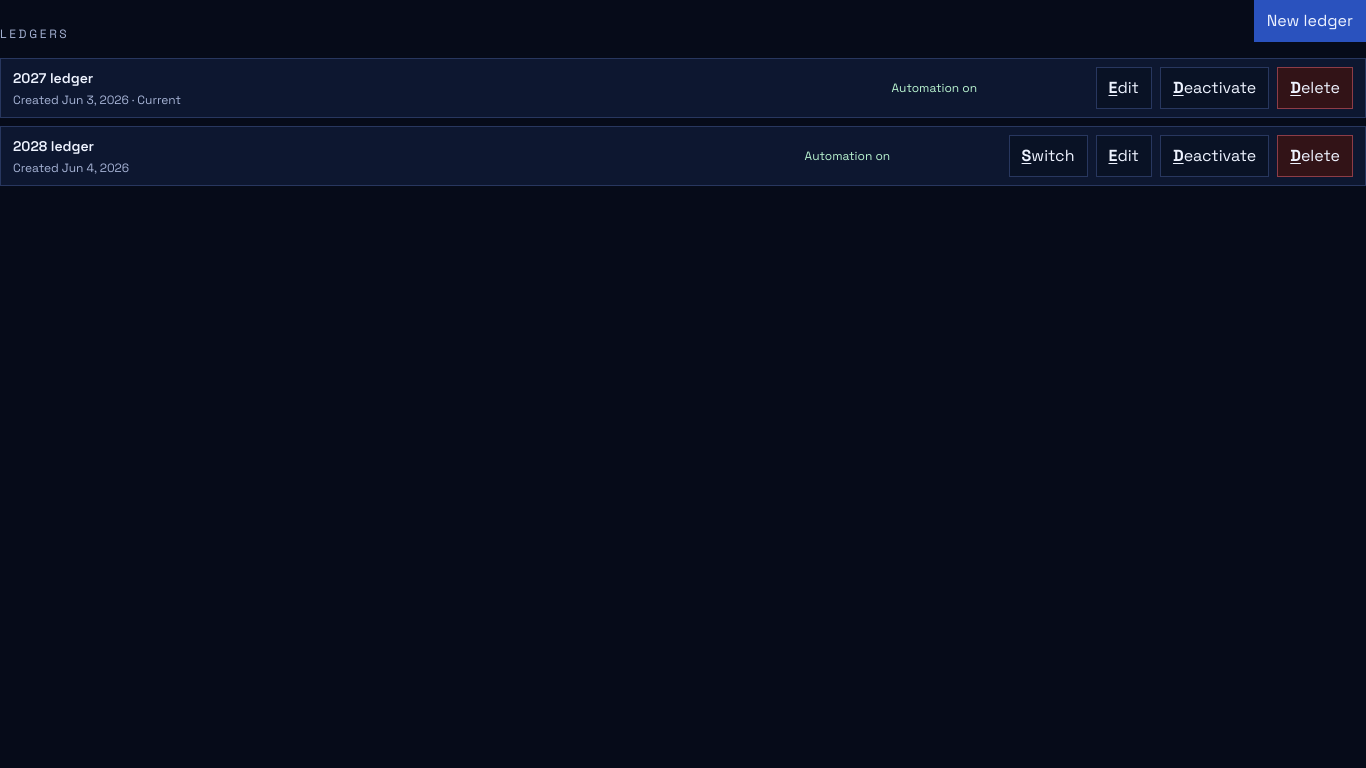
Test: ledger manager › renames a ledger in a modal dialog
The image size is (1366, 768).
Press ArrowDown
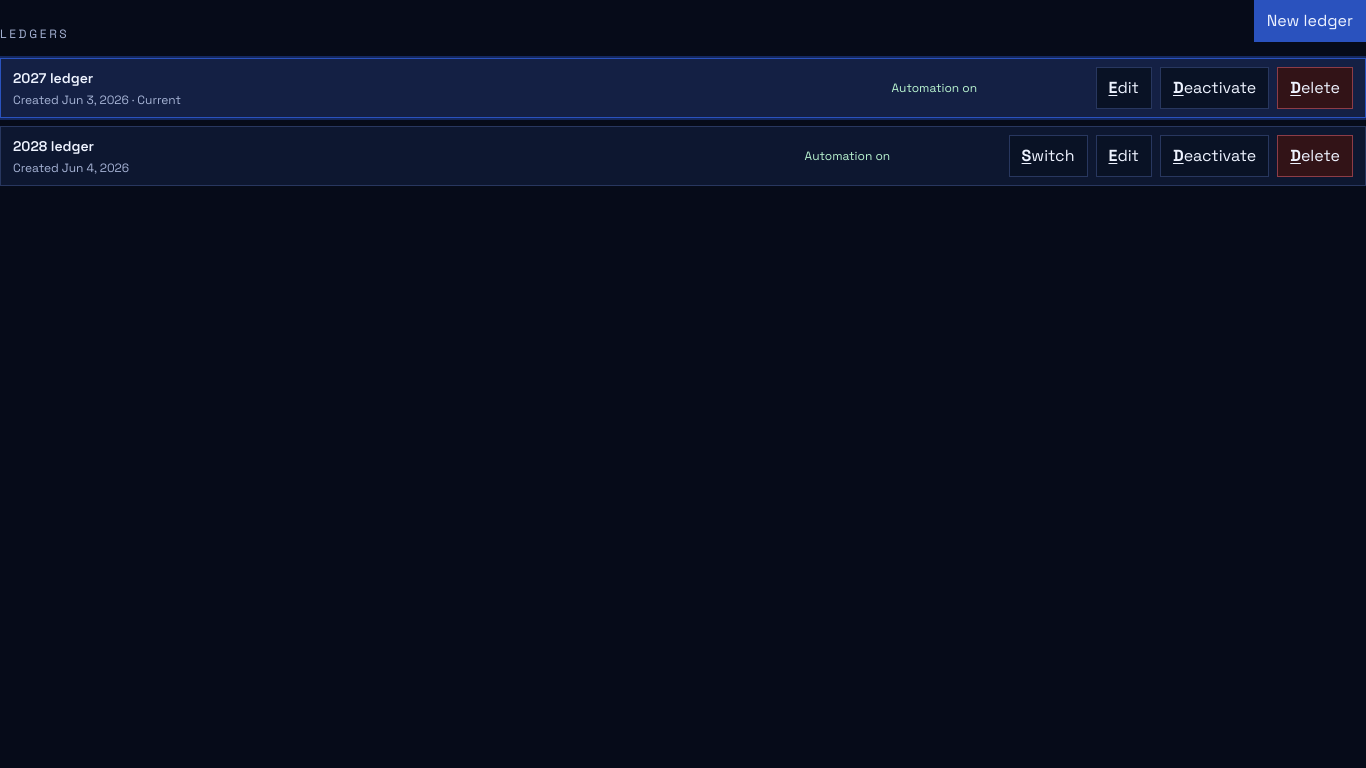
Press e
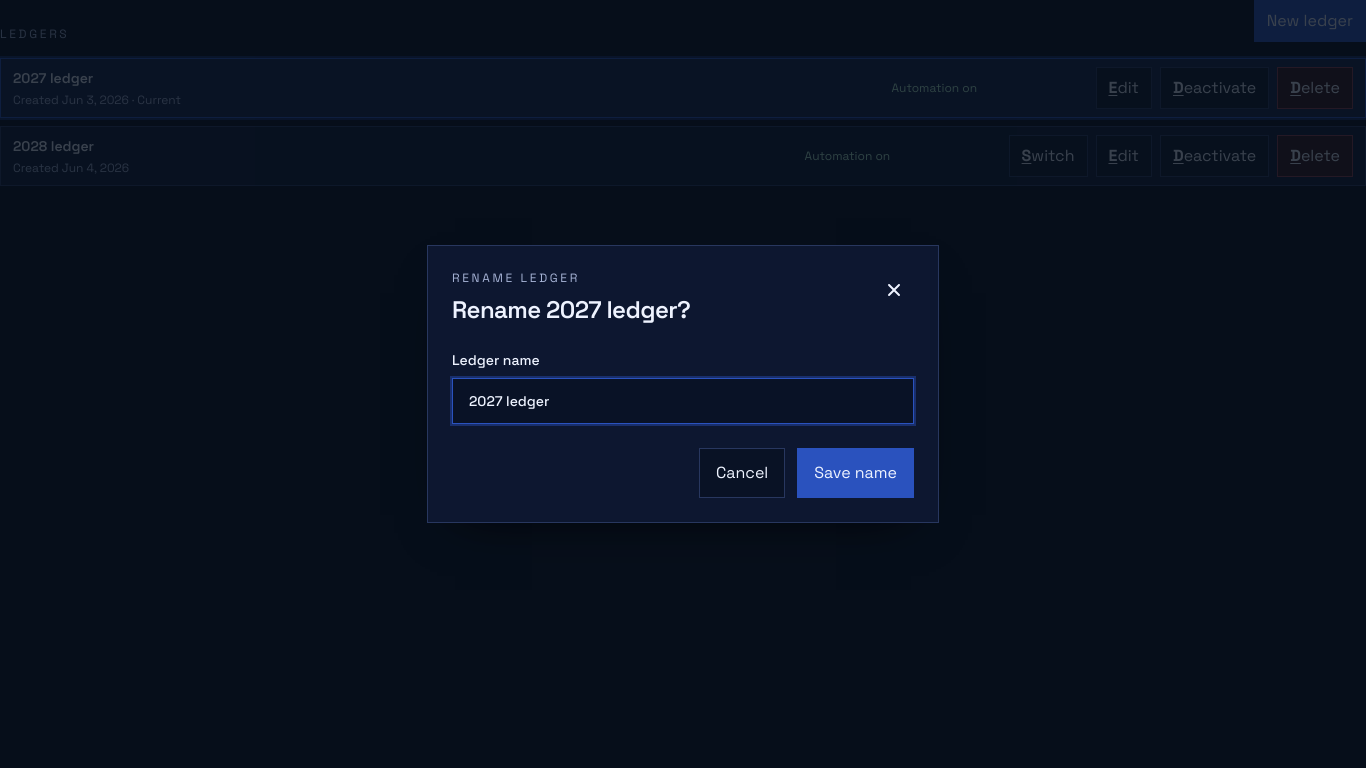
Now the dialog "Rename 2027 ledger?" is shown, box top-left (427, 245), bottom-right (939, 523)
Replace the text in the field labelled "Ledger name" with "Renamed ledger" at (683, 401), box top-left (452, 378), bottom-right (914, 424)
Then press Enter
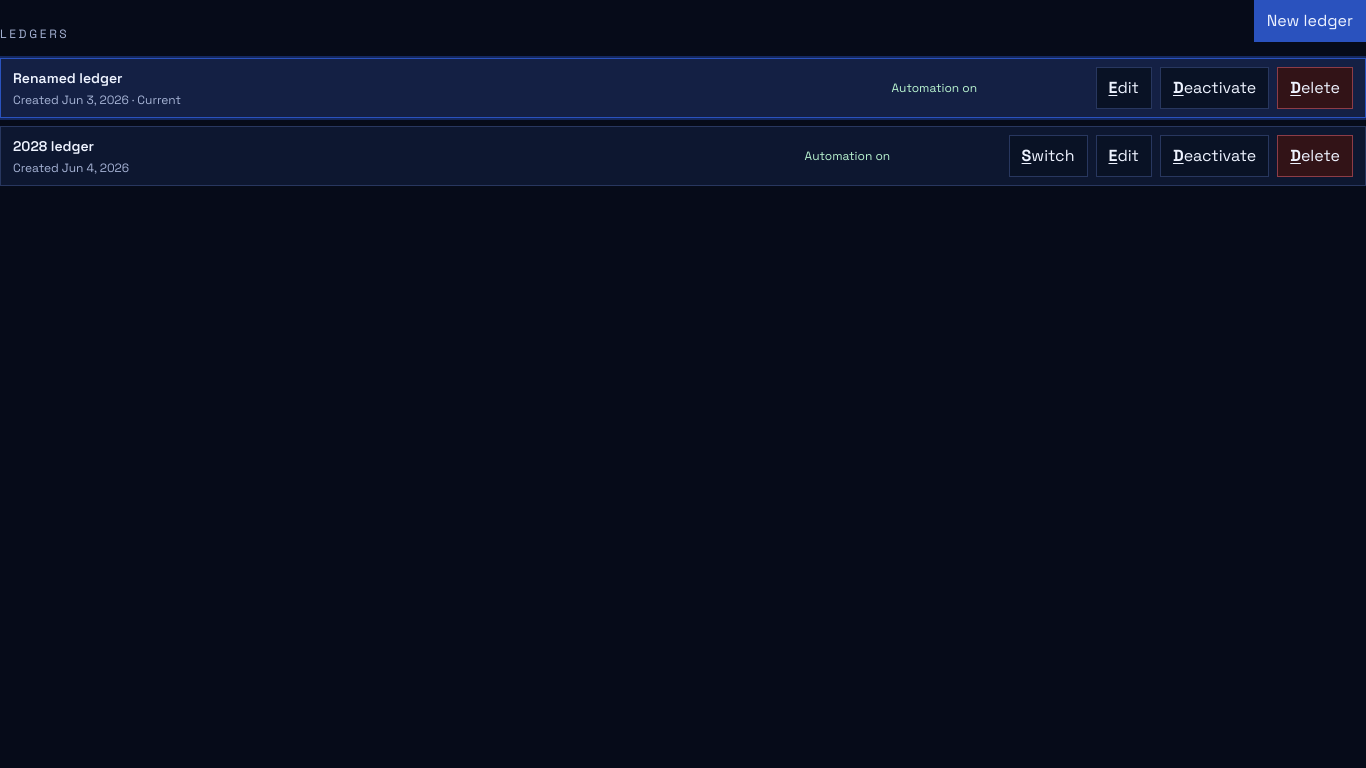
Now the heading "Rename 2027 ledger?" is gone
Now the text "Renamed ledger" is shown, box top-left (13, 69), bottom-right (123, 87)
